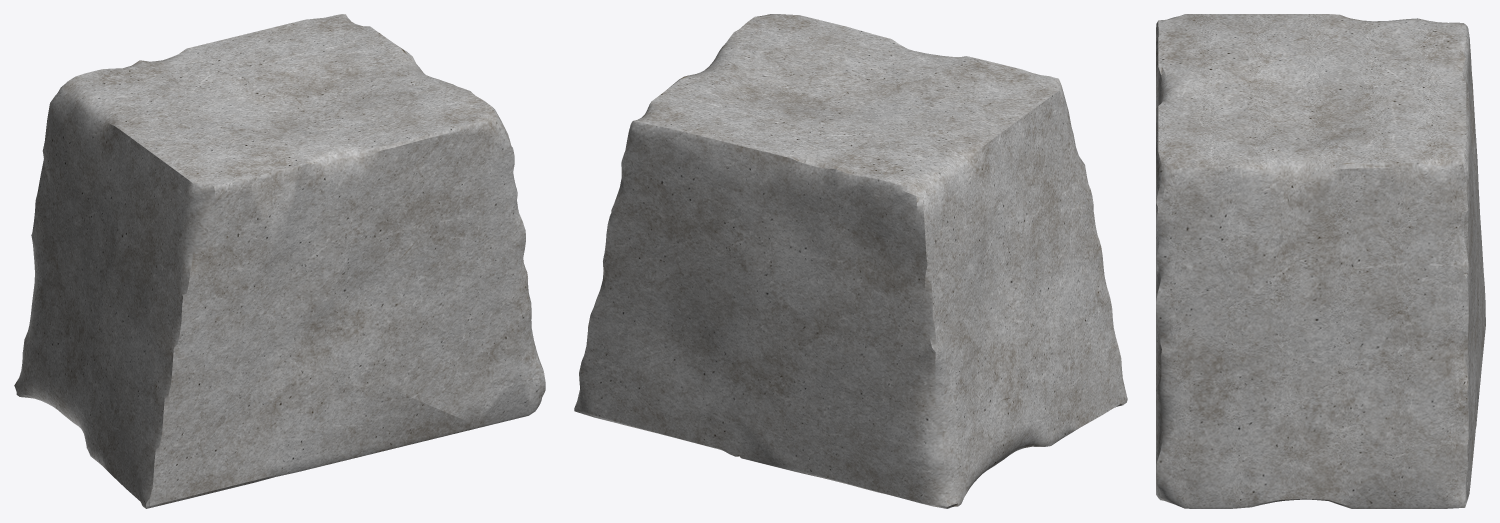
The model's file is concreat_block.glb.
The picture shows the model from 3 angles, left to right: view 1: azimuth 30°, elevation 25°; view 2: azimuth 150°, elevation 25°; view 3: azimuth 270°, elevation 25°; orthographic projection. The views are drawn at different scales.
Visible parts, largest first — view 1: Cube; view 2: Cube; view 3: Cube.
Boxes of the visible parts, <box> form: Cube: <box>14,14,545,508</box>; Cube: <box>574,14,1127,508</box>; Cube: <box>1156,14,1485,508</box>.
Size of the model in its own units: 0.3933 by 0.2843 by 0.2668.
1 material, 1 textured.
